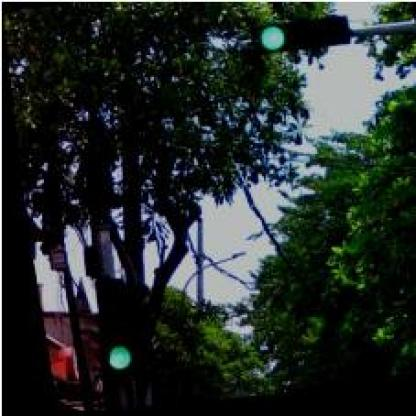green: (83, 276, 129, 380), (252, 17, 353, 61)
